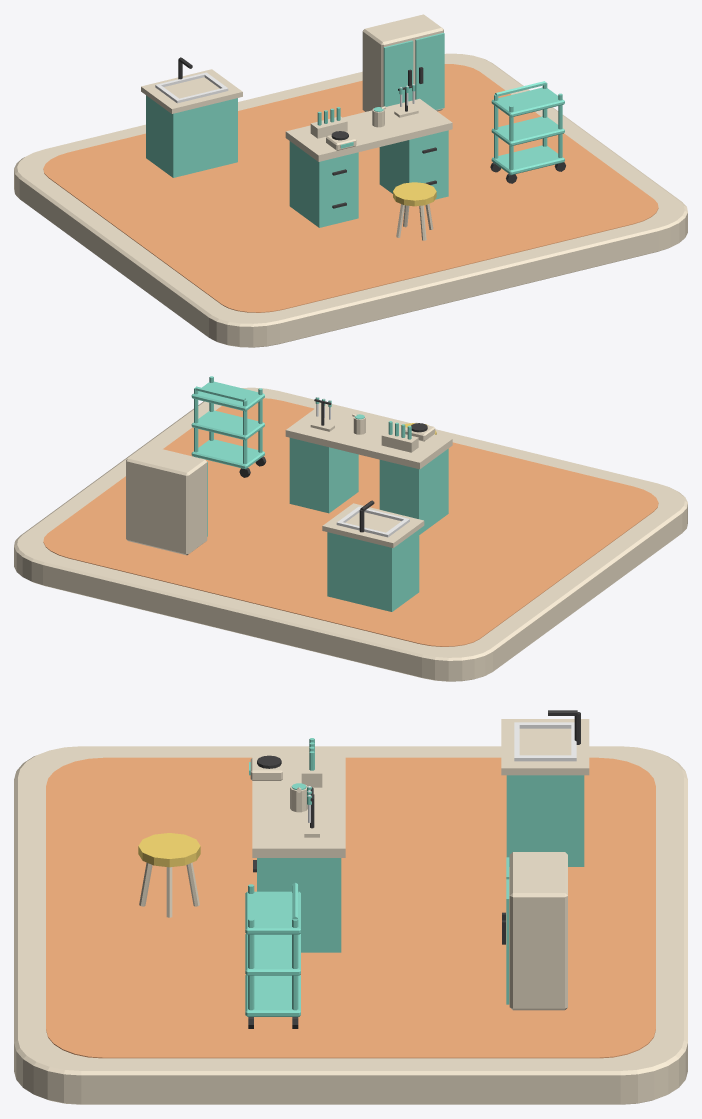
The model's file is room.fbx.
3 renders of one model, top to bottom at view 1: azimuth 30°, elevation 25°; view 2: azimuth 150°, elevation 25°; view 3: azimuth 270°, elevation 25°, orthographic. The views are drawn at different scales.
Parts seen in each view (by area): view 1: COM-02 Floor Surface, COM-01 Rounded Base Direct, Cabinet, Storage module, Worktop, Storage module.001, Equipment case, Counter, Door.001, Door, Tray.002, Tray (+3 smaller); view 2: COM-02 Floor Surface, COM-01 Rounded Base Direct, Equipment case, Cabinet, Worktop, Storage module.001, Storage module, Counter, Tray, Tray.001, Tray.002, Rack; view 3: COM-02 Floor Surface, COM-01 Rounded Base Direct, Equipment case, Worktop, Cabinet, Storage module.001, Counter, Tray.002, Tray, Tray.001, Seat, Rack.
Part boxes in pixels (bbox=[...]): COM-02 Floor Surface: bbox=[43, 64, 658, 312]; COM-01 Rounded Base Direct: bbox=[14, 53, 687, 347]; Cabinet: bbox=[146, 95, 237, 177]; Storage module: bbox=[289, 141, 358, 227]; Worktop: bbox=[285, 98, 452, 161]; Storage module.001: bbox=[379, 130, 448, 199]; Equipment case: bbox=[362, 14, 443, 111]; Counter: bbox=[141, 69, 242, 113]; Door.001: bbox=[415, 32, 444, 109]; Door: bbox=[383, 40, 413, 106]; Tray.002: bbox=[491, 87, 564, 117]; Tray: bbox=[491, 145, 564, 175]; COM-02 Floor Surface: bbox=[43, 398, 658, 646]; COM-01 Rounded Base Direct: bbox=[14, 387, 687, 681]; Equipment case: bbox=[126, 445, 207, 555]; Cabinet: bbox=[327, 529, 419, 611]; Worktop: bbox=[285, 406, 452, 469]; Storage module.001: bbox=[289, 438, 358, 513]; Storage module: bbox=[379, 448, 448, 534]; Counter: bbox=[322, 503, 424, 548]; Tray: bbox=[191, 439, 264, 469]; Tray.001: bbox=[191, 410, 264, 440]; Tray.002: bbox=[191, 381, 264, 411]; Rack: bbox=[381, 430, 418, 452]; COM-02 Floor Surface: bbox=[46, 757, 655, 1058]; COM-01 Rounded Base Direct: bbox=[14, 746, 687, 1104]; Equipment case: bbox=[509, 852, 567, 1010]; Worktop: bbox=[252, 755, 345, 857]; Cabinet: bbox=[506, 775, 584, 866]; Storage module.001: bbox=[257, 858, 341, 952]; Counter: bbox=[501, 719, 589, 775]; Tray.002: bbox=[245, 891, 300, 934]; Tray: bbox=[245, 975, 300, 1016]; Tray.001: bbox=[245, 934, 300, 975]; Seat: bbox=[138, 833, 200, 867]; Rack: bbox=[301, 752, 322, 787].
Size of the model in its own units: 600 by 154 by 520.
